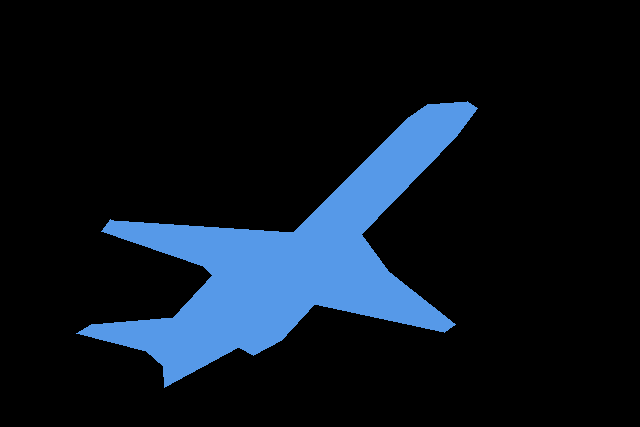Airplane: (76, 101, 477, 388)
